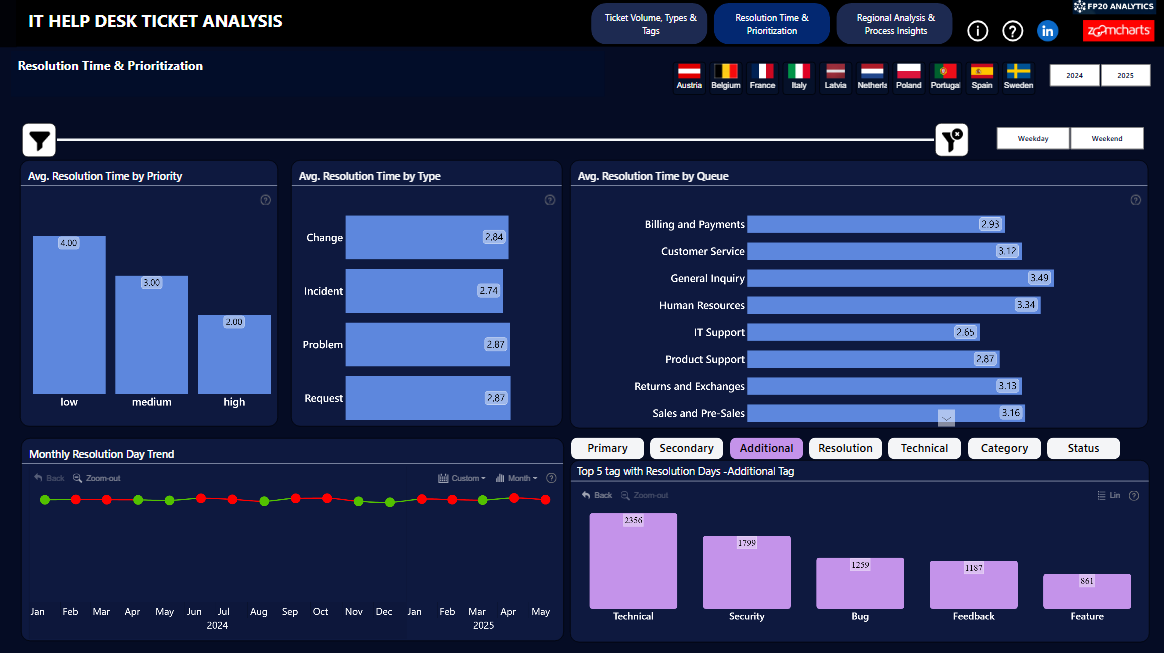

What the dashboard file says about the page in this screenshot:
{"tool":"powerbi","page":{"name":"Resolution Time & Prioritization","canvas":[1920,1080],"ordinal":1},"visuals":[{"type":"group","id":"g1","title":"Group 1","box":[25,136.7,1551.7,111.7],"z":0},{"type":"shape","box":[83.2,136.7,1437.9,110.3],"z":0,"group":"g1"},{"type":"actionButton","box":[935.7,718.6,120,40],"z":0,"group":"g2"},{"type":"textbox","box":[0,0,31.6,83.5],"z":1000},{"type":"image","box":[1521.1,164.3,55.2,55.2],"z":1000,"group":"g1"},{"type":"actionButton","box":[1065.7,718.6,120,40],"z":1000,"group":"g2"},{"type":"image","box":[25,164.5,55.7,55.7],"z":2000,"group":"g1"},{"type":"actionButton","box":[1195.7,718.6,120,40],"z":2000,"group":"g2"},{"type":"textbox","title":"IT HELP DESK TICKET ANALYSIS","box":[31.8,0,1888.2,83],"z":3000},{"type":"actionButton","box":[1325.7,718.6,120,40],"z":3000,"group":"g2"},{"type":"actionButton","box":[1455.7,718.6,120,40],"z":4000,"group":"g2"},{"type":"ZoomChartsDrillDownTimelinePro7F6C01BA1C534E9AB4A6BCCB44F591","title":"Monthly Resolution Day  Trend","fields":{"Category":["dim_date.Date.Variation.Date Hierarchy.Year","dim_date.Date.Variation.Date Hierarchy.Quarter","dim_date.Date.Variation.Date Hierarchy.Month","dim_date.Date.Variation.Date Hierarchy.Day"],"DateValue":["Min(dim_date.Date)"],"Values1":["dax_measures.Avg Resolution Days"]},"box":[39.7,724.1,889.7,332.8],"z":4000},{"type":"textbox","title":"Resolution Time & Prioritization","box":[23.3,90,973.3,75],"z":5000},{"type":"actionButton","box":[1585.7,718.6,120,40],"z":5000,"group":"g2"},{"type":"ZoomChartsFacetChartPaidE77E4ED357DC402ABA005987437CF500","title":"Avg. Resolution Time by Priority","fields":{"Category":["fact_tickets.Priority"],"Values1":["dax_measures.Avg Resolution Days"]},"box":[38.3,268.3,431.7,438.3],"z":6000},{"type":"actionButton","box":[1715.7,718.6,120,40],"z":6000,"group":"g2"},{"type":"group","id":"g2","title":"Tag Buttons Primary","box":[935.7,718.6,900,40],"z":10000},{"type":"image","box":[1758,35.2,162.5,45.5],"z":17000},{"type":"image","box":[1758,0,148.4,34.8],"z":19000},{"type":"image","box":[1700.4,34.8,45.4,45.4],"z":20000},{"type":"actionButton","box":[1585.4,34.8,45.4,45.4],"z":21000},{"type":"actionButton","box":[1642.9,34.8,45.4,45.4],"z":22000},{"type":"slicer","fields":{"Values":["dim_date.Year"]},"box":[1700,105,215,50],"z":23000},{"type":"ZoomChartsFacetChartPaidE77E4ED357DC402ABA005987437CF500","title":"Top 5 tag  with Resolution Days  -Primary Tag","fields":{"Category":["fact_tickets.Primary Tag"],"RuleColor":["dax_measures.Avg Resolution Days"],"Values1":["dax_measures.Total Tickets"]},"box":[940,756.7,948.3,300],"z":24000},{"type":"ZoomChartsDrillDownComboBarProE77E4ED357DC402ABA005987437CF8","title":"Avg. Resolution Time by Type","fields":{"Values1":["dax_measures.Avg Resolution Days"],"Category":["fact_tickets.Type"]},"box":[481.7,268.3,445,436.7],"z":31000},{"type":"ZoomChartsDrillDownComboBarProE77E4ED357DC402ABA005987437CF8","title":"Avg. Resolution Time by Queue ","fields":{"Values1":["dax_measures.Avg Resolution Days"],"Category":["fact_tickets.Queue"]},"box":[940,268.3,948.3,440],"z":32000},{"type":"slicer","fields":{"Values":["dim_date.Weekend Flag"]},"box":[1630,165,290,50],"z":33000},{"type":"pageNavigator","box":[968.3,6.7,605,73.3],"z":34000}]}

Visuals, with their boxes in screenshot pixels (x1, y1, x2, y2), scaled from the page's 1920x1080 canvas onto the 1164x653 screenshot:
"Group 1" group: bbox=[15, 83, 956, 150]
shape: bbox=[50, 83, 922, 149]
actionButton: bbox=[567, 434, 640, 459]
textbox: bbox=[0, 0, 19, 50]
image: bbox=[922, 99, 956, 133]
actionButton: bbox=[646, 434, 719, 459]
image: bbox=[15, 99, 49, 133]
actionButton: bbox=[725, 434, 798, 459]
"IT HELP DESK TICKET ANALYSIS" textbox: bbox=[19, 0, 1163, 50]
actionButton: bbox=[804, 434, 876, 459]
actionButton: bbox=[883, 434, 955, 459]
"Monthly Resolution Day  Trend" ZoomChartsDrillDownTimelinePro7F6C01BA1C534E9AB4A6BCCB44F591: bbox=[24, 438, 563, 639]
"Resolution Time & Prioritization" textbox: bbox=[14, 54, 604, 100]
actionButton: bbox=[961, 434, 1034, 459]
"Avg. Resolution Time by Priority" ZoomChartsFacetChartPaidE77E4ED357DC402ABA005987437CF500: bbox=[23, 162, 285, 427]
actionButton: bbox=[1040, 434, 1113, 459]
"Tag Buttons Primary" group: bbox=[567, 434, 1113, 459]
image: bbox=[1066, 21, 1163, 49]
image: bbox=[1066, 0, 1156, 21]
image: bbox=[1031, 21, 1058, 48]
actionButton: bbox=[961, 21, 989, 48]
actionButton: bbox=[996, 21, 1024, 48]
slicer - dim_date.Year: bbox=[1031, 63, 1161, 94]
"Top 5 tag  with Resolution Days  -Primary Tag" ZoomChartsFacetChartPaidE77E4ED357DC402ABA005987437CF500: bbox=[570, 458, 1145, 639]
"Avg. Resolution Time by Type" ZoomChartsDrillDownComboBarProE77E4ED357DC402ABA005987437CF8: bbox=[292, 162, 562, 426]
"Avg. Resolution Time by Queue " ZoomChartsDrillDownComboBarProE77E4ED357DC402ABA005987437CF8: bbox=[570, 162, 1145, 428]
slicer - dim_date.Weekend Flag: bbox=[988, 100, 1163, 130]
pageNavigator: bbox=[587, 4, 954, 48]
